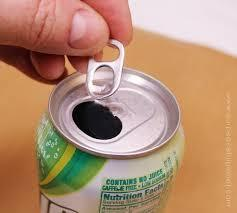Aluminum can: (37, 48, 204, 213)
